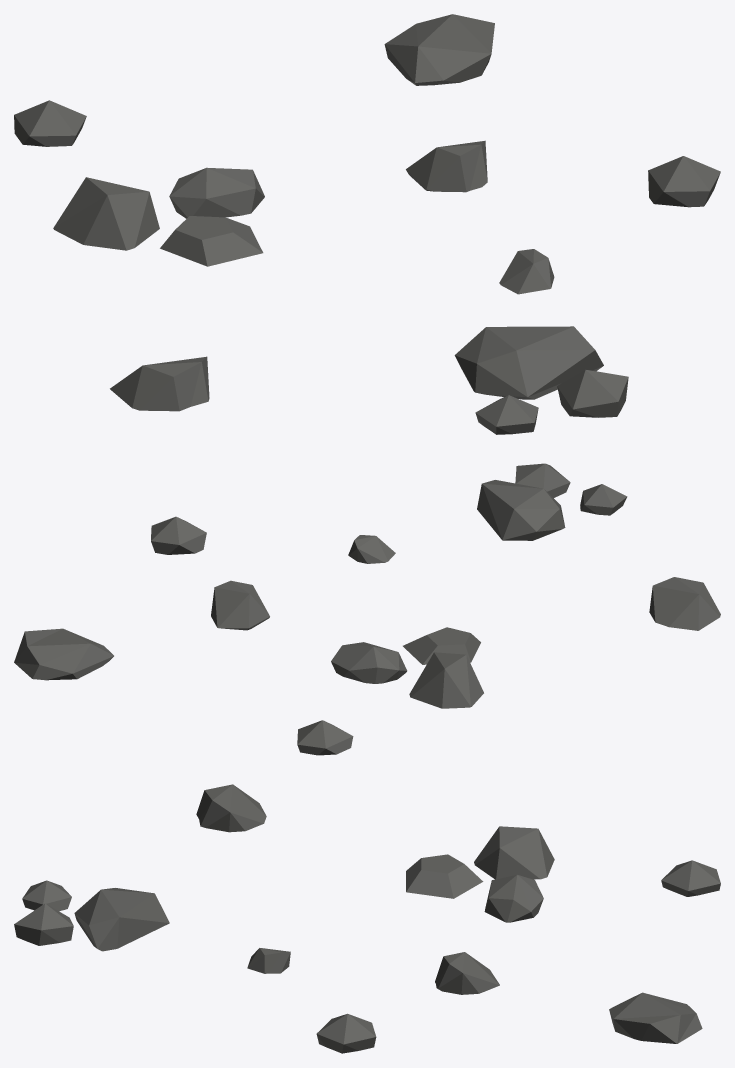
The model's file is SM_Envr_Nature_Rock_Rubble_01.fbx.
3 views of the same model, one above another, from view 1: azimuth 30°, elevation 25°; view 2: azimuth 150°, elevation 25°; view 3: azimuth 270°, elevation 25° (orthographic). The views are drawn at different scales.
Visible parts, largest first — view 1: SM_Envr_Nature_Rock_Rubble_01; view 2: SM_Envr_Nature_Rock_Rubble_01; view 3: SM_Envr_Nature_Rock_Rubble_01.
Boxes of the visible parts, x1,y1,x2,y2 form: SM_Envr_Nature_Rock_Rubble_01: (14,14,720,434); SM_Envr_Nature_Rock_Rubble_01: (14,463,720,755); SM_Envr_Nature_Rock_Rubble_01: (14,784,720,1053).
Bounding box in the file's own units: 236 × 15 × 277.
